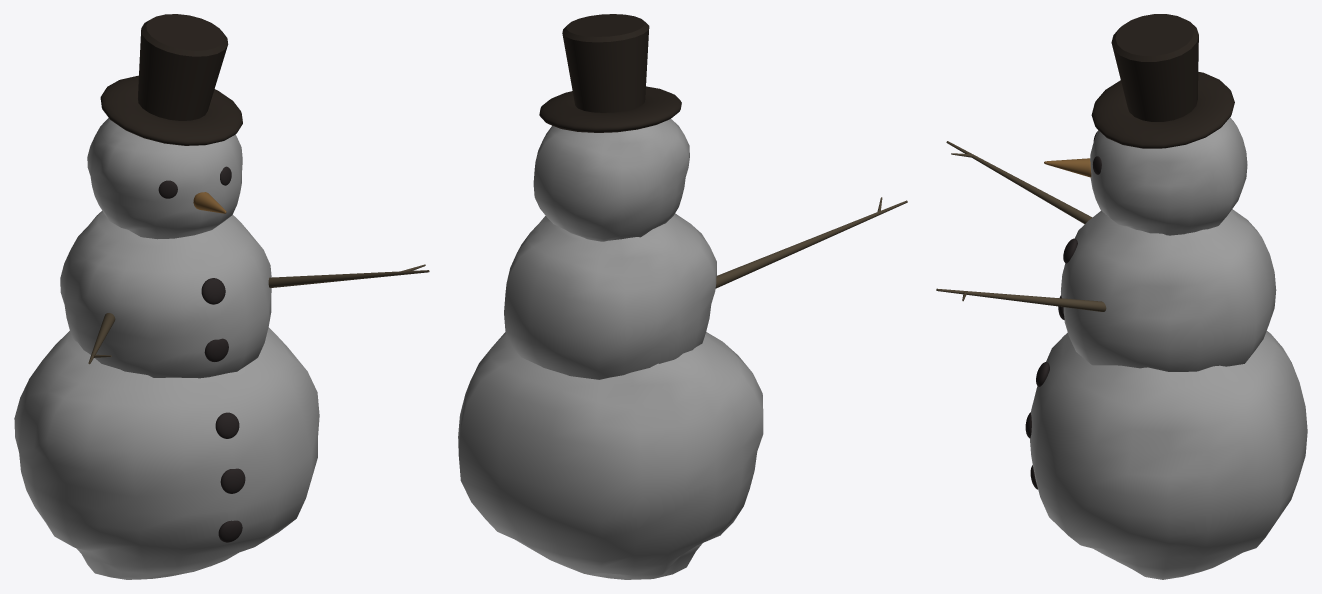
Rendered from muñeco de nieve.fbx.
3 views of the same model, side by side, from view 1: azimuth 30°, elevation 25°; view 2: azimuth 150°, elevation 25°; view 3: azimuth 270°, elevation 25° (orthographic).
Parts seen in each view (by area): view 1: pSphere1, pSphere2, pSphere3, pTorus3, polySurface1; view 2: pSphere1, pSphere2, pSphere3, pTorus3, polySurface5; view 3: pSphere1, pSphere2, pTorus3, pSphere3, polySurface1, polySurface5, pCone1.
Part boxes in pixels (<box>): pSphere1: <box>14,327,319,579</box>; pSphere2: <box>60,211,271,378</box>; pSphere3: <box>87,117,242,239</box>; pTorus3: <box>100,14,242,145</box>; polySurface1: <box>268,264,429,287</box>; pSphere1: <box>458,332,763,579</box>; pSphere2: <box>504,213,716,379</box>; pSphere3: <box>533,119,689,241</box>; pTorus3: <box>539,14,681,132</box>; polySurface5: <box>715,197,907,288</box>; pSphere1: <box>1030,331,1307,579</box>; pSphere2: <box>1061,209,1276,371</box>; pTorus3: <box>1091,14,1234,148</box>; pSphere3: <box>1090,117,1247,235</box>; polySurface1: <box>936,288,1106,311</box>; polySurface5: <box>946,141,1092,224</box>; pCone1: <box>1044,158,1091,177</box>.
Size of the model in its own units: 3.64 by 5.48 by 3.42.
